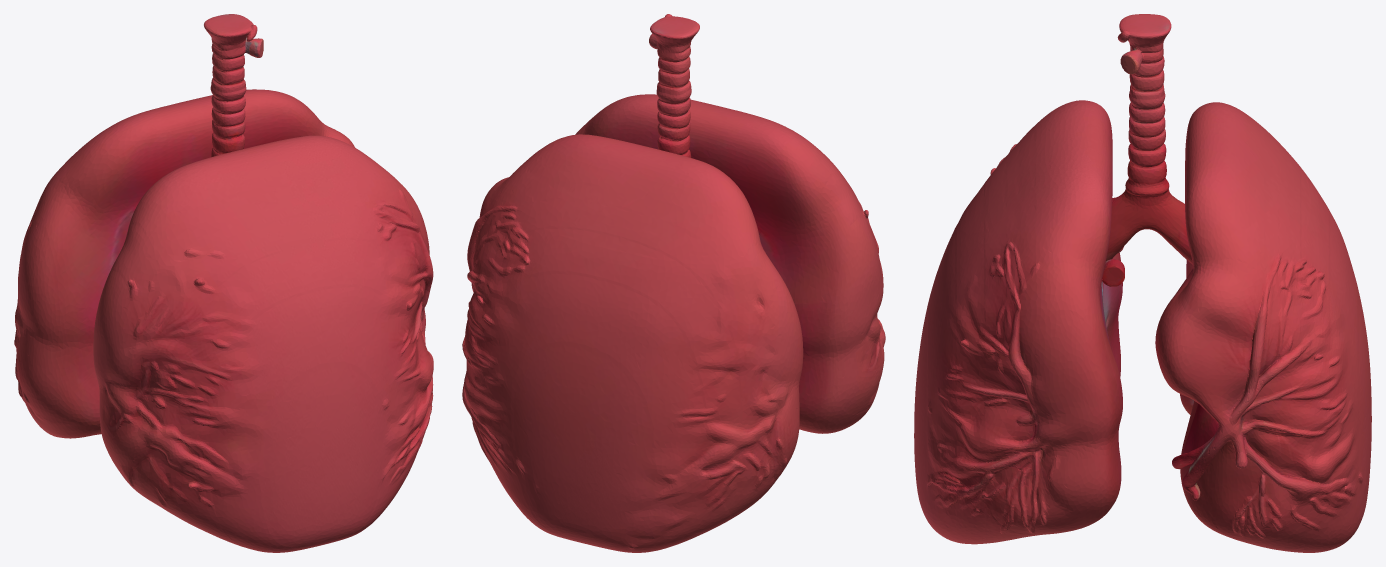
Rendered from lungs.glb.
The picture shows the model from 3 angles, left to right: view 1: azimuth 30°, elevation 25°; view 2: azimuth 150°, elevation 25°; view 3: azimuth 270°, elevation 25°; orthographic projection. The views are drawn at different scales.
Parts seen in each view (by area): view 1: tripo_node_aea1d54d-8e1e-403e-bd87-6b92088b3810; view 2: tripo_node_aea1d54d-8e1e-403e-bd87-6b92088b3810; view 3: tripo_node_aea1d54d-8e1e-403e-bd87-6b92088b3810.
Part boxes in pixels (bbox=[...]): tripo_node_aea1d54d-8e1e-403e-bd87-6b92088b3810: bbox=[14, 14, 433, 552]; tripo_node_aea1d54d-8e1e-403e-bd87-6b92088b3810: bbox=[462, 14, 885, 552]; tripo_node_aea1d54d-8e1e-403e-bd87-6b92088b3810: bbox=[914, 14, 1371, 552].
Bounding box in the file's own units: 0.7446 × 1 × 0.824.
1 material, 1 textured.
